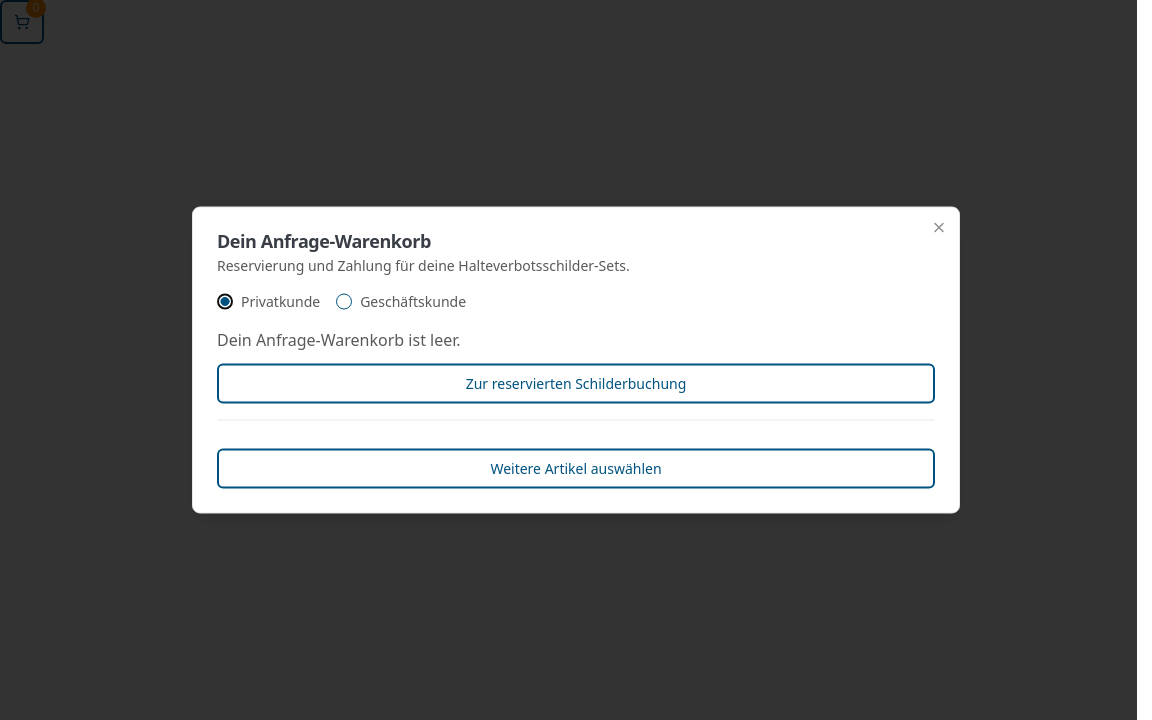
Test: Neue Schildermiete und frühere Reservierung bleiben getrennt › kehrt vom alten Zahlungsbeleg in den offenen leeren Warenkorb zurück und hält ihn erreichbar
The image size is (1152, 720).
Earlier steps of the test are not shown.
Expected: the dialog is shown, [192, 206, 960, 514]
Expected: the text "Dein Anfrage-Warenkorb ist leer." is shown, [217, 328, 461, 350]
Click the button "Zur reservierten Schilderbuchung" at (576, 384), box [217, 364, 935, 404]
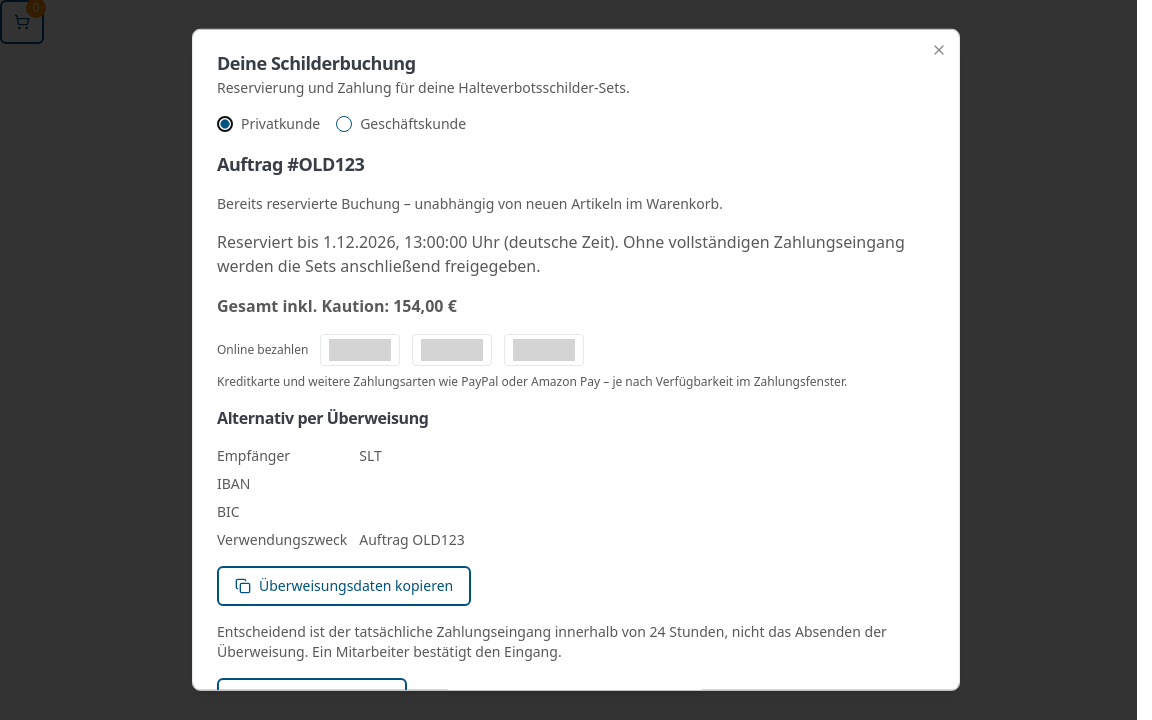
Now the text "Gesamt inkl. Kaution: 154,00 €" is shown, box [217, 295, 457, 317]
